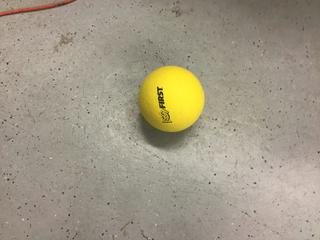power_cell: (141, 54, 205, 134)
